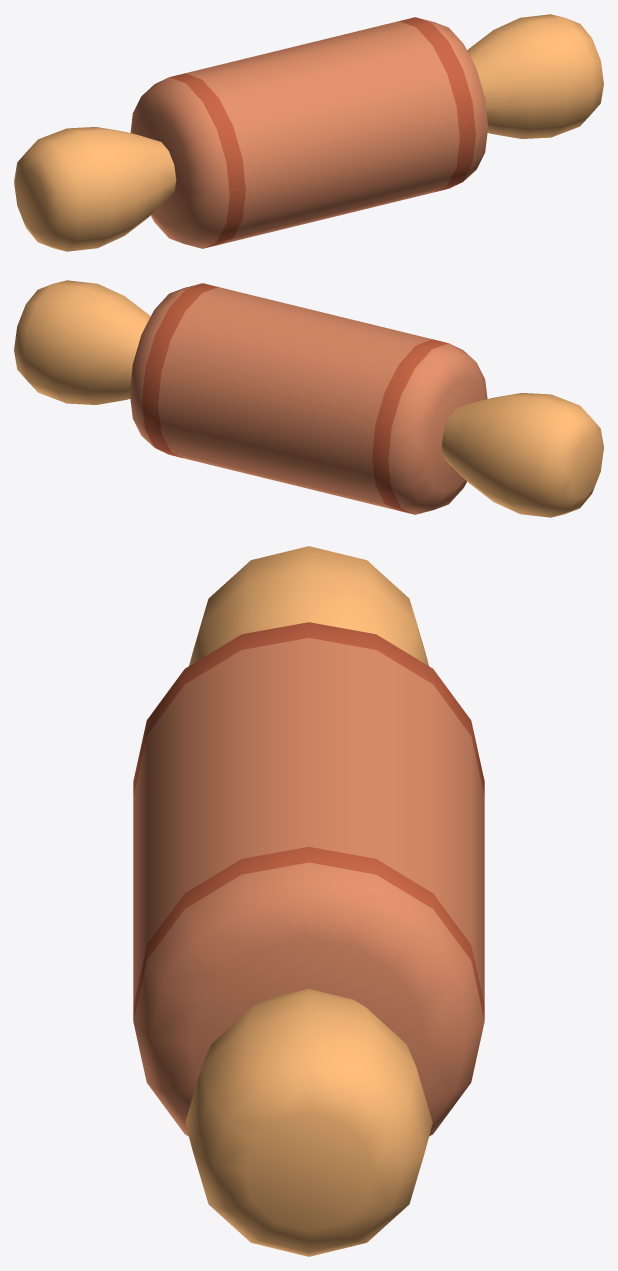
Rendered from rolo_massa_pacote.glb.
3 views of the same model, one above another, from view 1: azimuth 30°, elevation 25°; view 2: azimuth 150°, elevation 25°; view 3: azimuth 270°, elevation 25° (orthographic). The views are drawn at different scales.
Visible parts, largest first — view 1: rolo_massa_pacote; view 2: rolo_massa_pacote; view 3: rolo_massa_pacote.
Boxes of the visible parts, bbox=[...] form: rolo_massa_pacote: bbox=[14, 14, 603, 251]; rolo_massa_pacote: bbox=[14, 280, 603, 517]; rolo_massa_pacote: bbox=[133, 546, 484, 1256].
Size of the model in its own units: 0.3891 by 0.1066 by 0.1066.
1 material, 1 textured.
